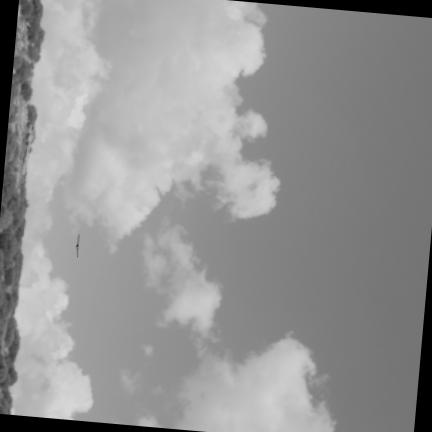Shahed: (75, 235, 79, 257)
